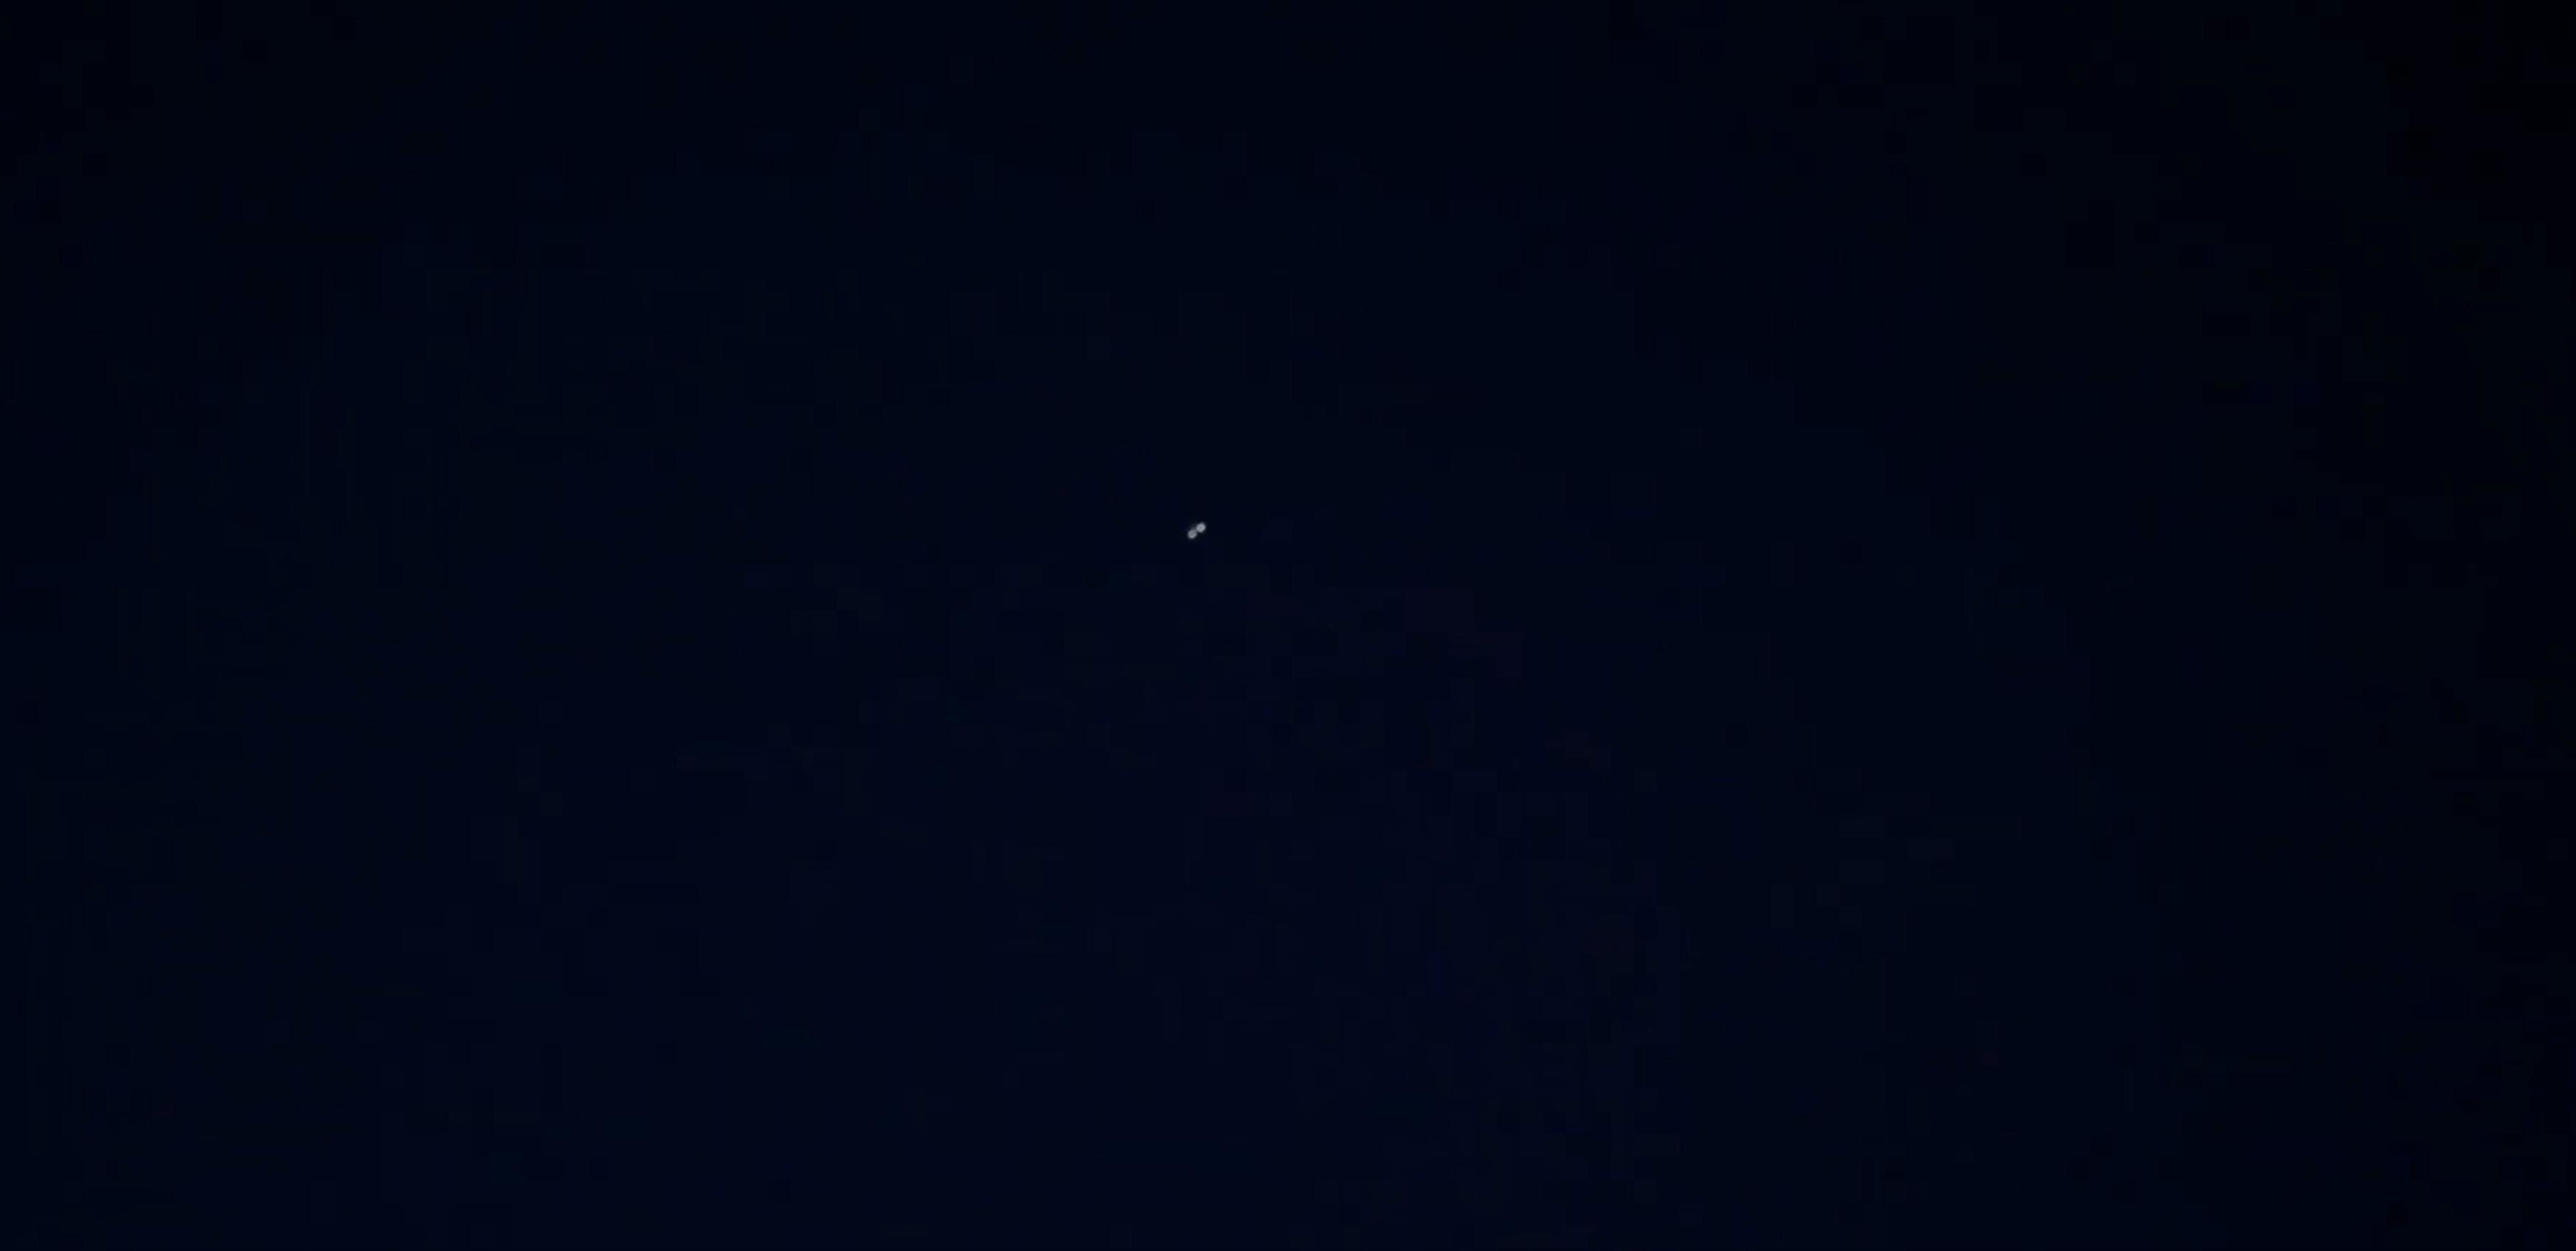Plane: (1178, 496, 1224, 556)
